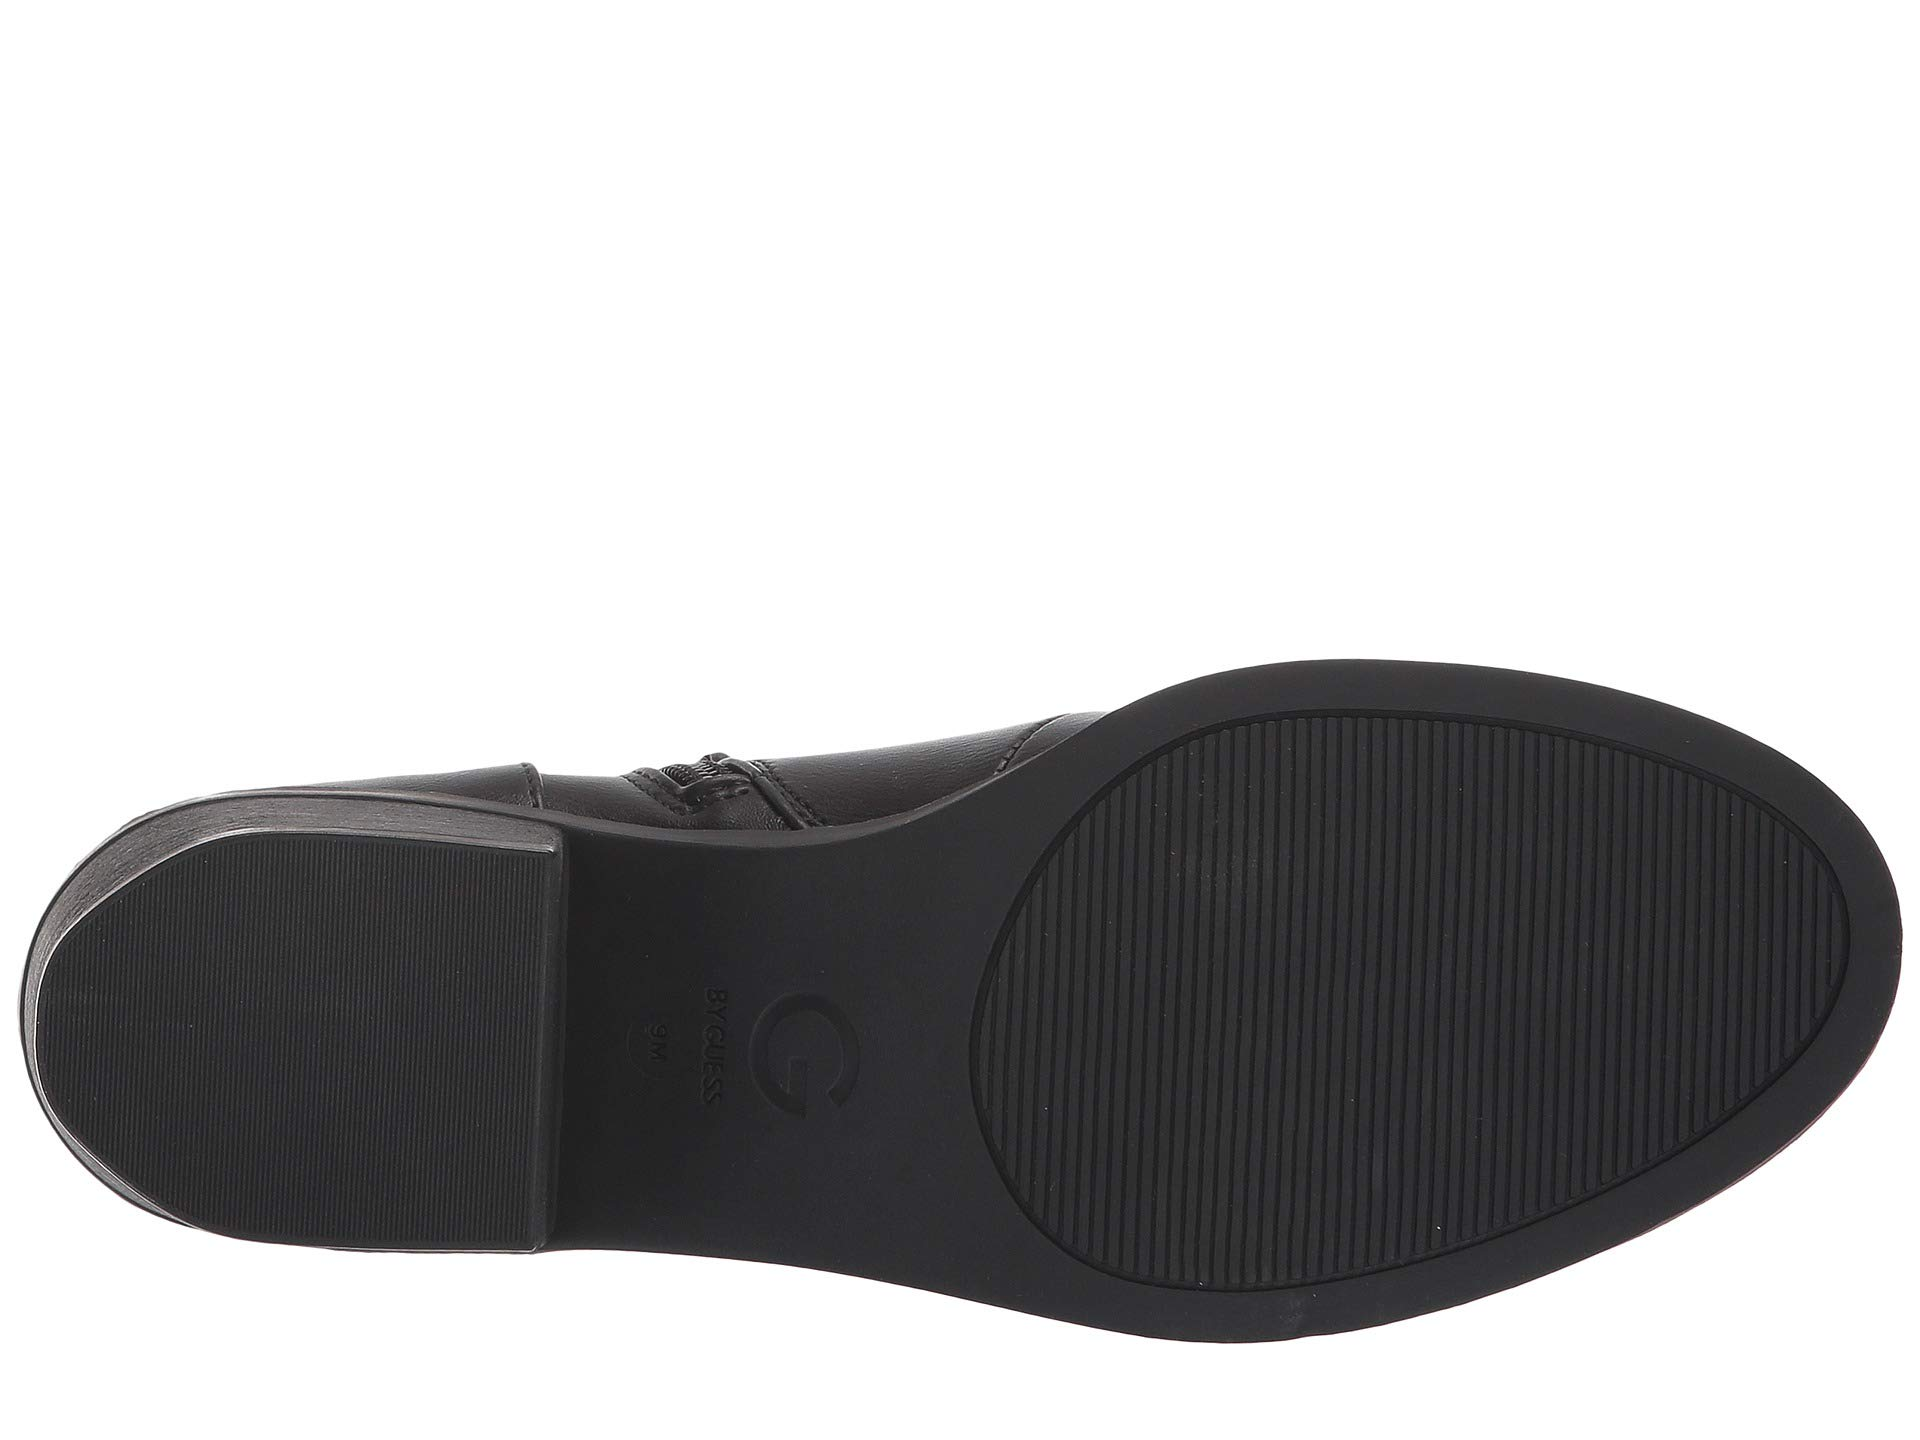line: (1208, 812, 1513, 1109)
